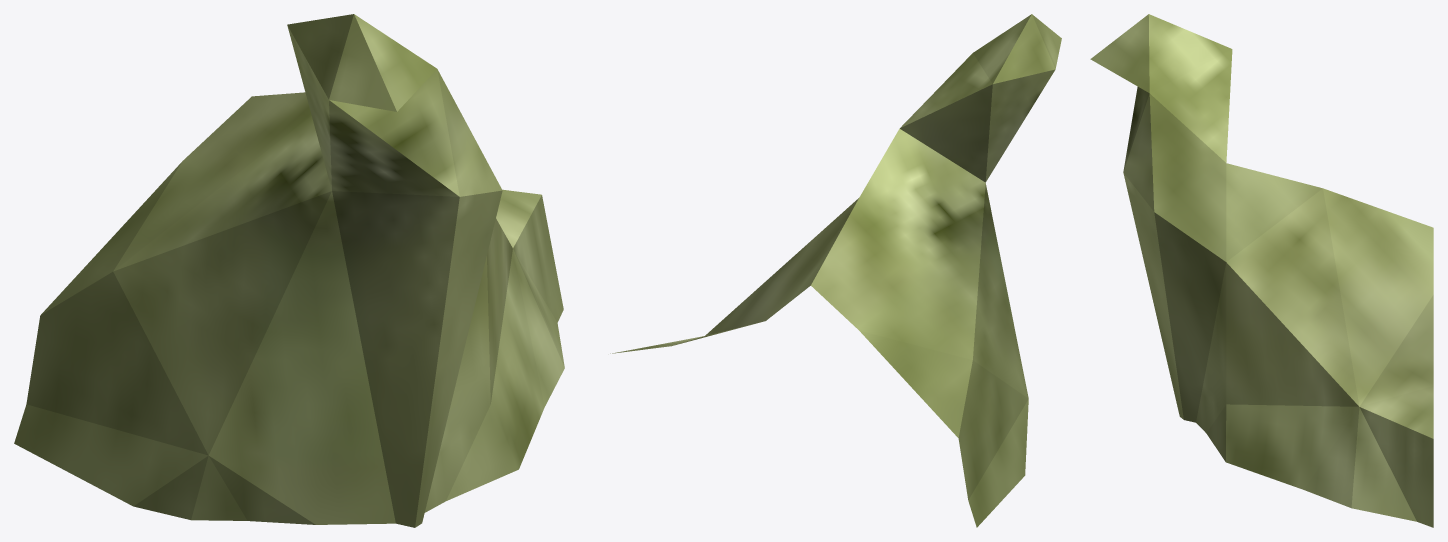
3 views of the same model, side by side, from view 1: azimuth 30°, elevation 25°; view 2: azimuth 150°, elevation 25°; view 3: azimuth 270°, elevation 25° (orthographic). The views are drawn at different scales.
Bounding box in the file's own units: 0.4311 × 0.413 × 0.3429.
1 material, 1 textured.
